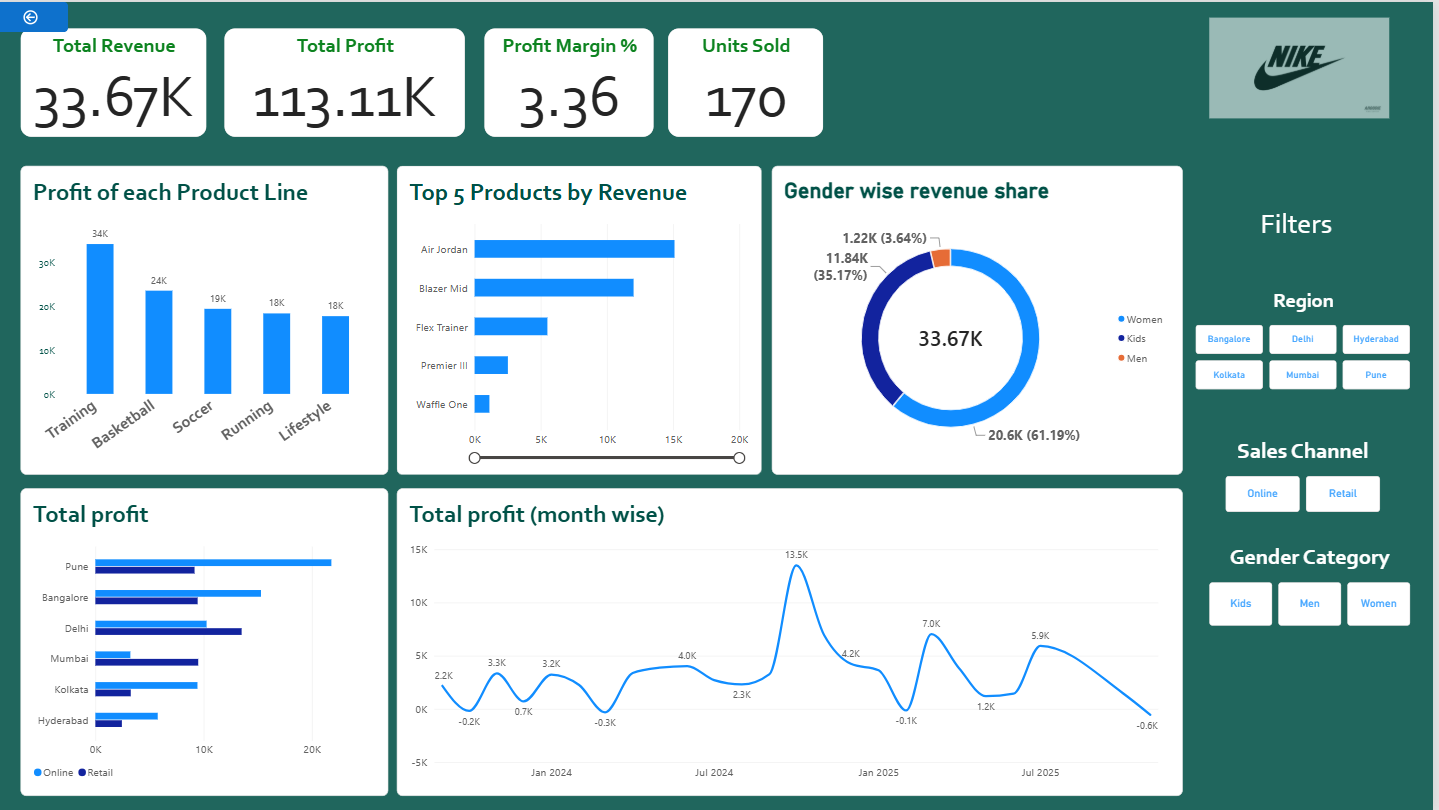

Layout of this report page (visuals, bound fields, positions):
{"tool":"powerbi","page":{"name":"Page 1","canvas":[1920,1080],"ordinal":0},"visuals":[{"type":"cardVisual","fields":{"Data":["Sum(nike_sales.Revenue)"]},"box":[36.3,34.3,248.4,145.4],"z":0},{"type":"cardVisual","fields":{"Data":["Sum(nike_sales.Profit)"]},"box":[307.5,35,321.1,145.4],"z":1000},{"type":"cardVisual","fields":{"Data":["nike_sales.Profit Margin %"]},"box":[655,35,226.2,145.4],"z":2000},{"type":"cardVisual","fields":{"Data":["Sum(nike_sales.Units_Sold)"]},"box":[900,35,208,145.4],"z":3000},{"type":"columnChart","title":"Profit of each Product Line","fields":{"Category":["nike_sales.Product_Line"],"Y":["Sum(nike_sales.Profit)"]},"box":[36,218,490,412],"z":4000},{"type":"barChart","title":"Top 5 Products by Revenue","fields":{"Category":["nike_sales.Product_Name"],"Y":["Sum(nike_sales.Revenue)"]},"box":[538,218,486,412],"z":5000},{"type":"advancedSlicerVisual","fields":{"Values":["nike_sales.Region"]},"box":[1604,382,288,136],"z":6000},{"type":"advancedSlicerVisual","title":"Gender Category","fields":{"Values":["nike_sales.Gender_Category"]},"box":[1622,722,268,110],"z":7000},{"type":"advancedSlicerVisual","title":"Sales Channel","fields":{"Values":["nike_sales.Sales_Channel"]},"box":[1644,580,206,100],"z":8000},{"type":"clusteredBarChart","title":"Total profit","fields":{"Category":["nike_sales.Region"],"Series":["nike_sales.Sales_Channel"],"Y":["Sum(nike_sales.Profit)"]},"box":[36,648,490,410],"z":9000},{"type":"actionButton","box":[0,0,100,40],"z":10000},{"type":"lineChart","title":"Total profit (month wise)","fields":{"Category":["nike_sales.Order_Date.Variation.Date Hierarchy.Year","nike_sales.Order_Date.Variation.Date Hierarchy.Month"],"Y":["Sum(nike_sales.Profit)"]},"box":[538,648,1048,410],"z":11000},{"type":"donutChart","title":"Gender wise revenue share","fields":{"Category":["nike_sales.Gender_Category"],"Y":["Sum(nike_sales.Revenue)"]},"box":[1038,218,548,412],"z":12000},{"type":"textbox","box":[1622,274,232,66],"z":13000},{"type":"image","box":[1622,0,240,176],"z":14000}]}

Visuals, with their boxes in screenshot pixels (x1, y1, x2, y2), scaled from the page's 1920x1080 canvas onto the 1439x810 screenshot:
cardVisual - Sum(nike_sales.Revenue): [27, 26, 213, 135]
cardVisual - Sum(nike_sales.Profit): [230, 26, 471, 135]
cardVisual - nike_sales.Profit Margin %: [491, 26, 660, 135]
cardVisual - Sum(nike_sales.Units_Sold): [675, 26, 830, 135]
"Profit of each Product Line" columnChart: [27, 164, 394, 472]
"Top 5 Products by Revenue" barChart: [403, 164, 767, 472]
advancedSlicerVisual - nike_sales.Region: [1202, 286, 1418, 388]
"Gender Category" advancedSlicerVisual: [1216, 542, 1417, 624]
"Sales Channel" advancedSlicerVisual: [1232, 435, 1387, 510]
"Total profit" clusteredBarChart: [27, 486, 394, 794]
actionButton: [0, 0, 75, 30]
"Total profit (month wise)" lineChart: [403, 486, 1189, 794]
"Gender wise revenue share" donutChart: [778, 164, 1189, 472]
textbox: [1216, 206, 1390, 255]
image: [1216, 0, 1396, 132]
